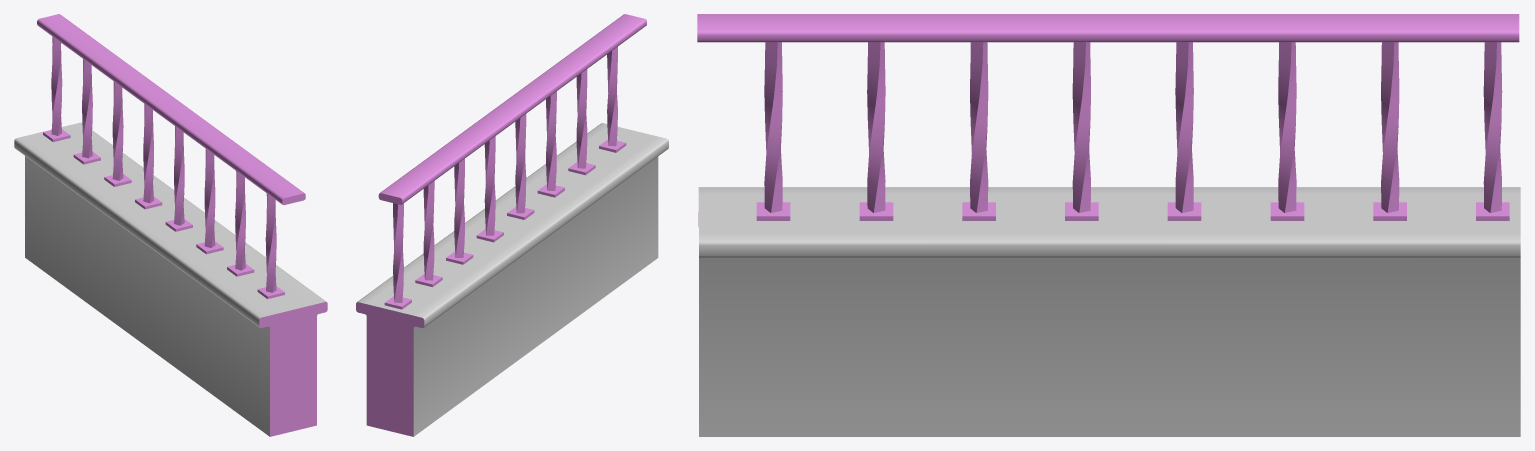
The model's file is Mauer_Fence.fbx.
3 views of the same model, side by side, from view 1: azimuth 30°, elevation 25°; view 2: azimuth 150°, elevation 25°; view 3: azimuth 270°, elevation 25° (orthographic). The views are drawn at different scales.
Parts seen in each view (by area): view 1: Fence; view 2: Fence; view 3: Fence.
Boxes of the visible parts, x1=… form: Fence: x1=14, y1=14, x2=327, y2=436; Fence: x1=356, y1=14, x2=668, y2=436; Fence: x1=697, y1=14, x2=1520, y2=436.
Bounding box in the file's own units: 129 × 425 × 802.
